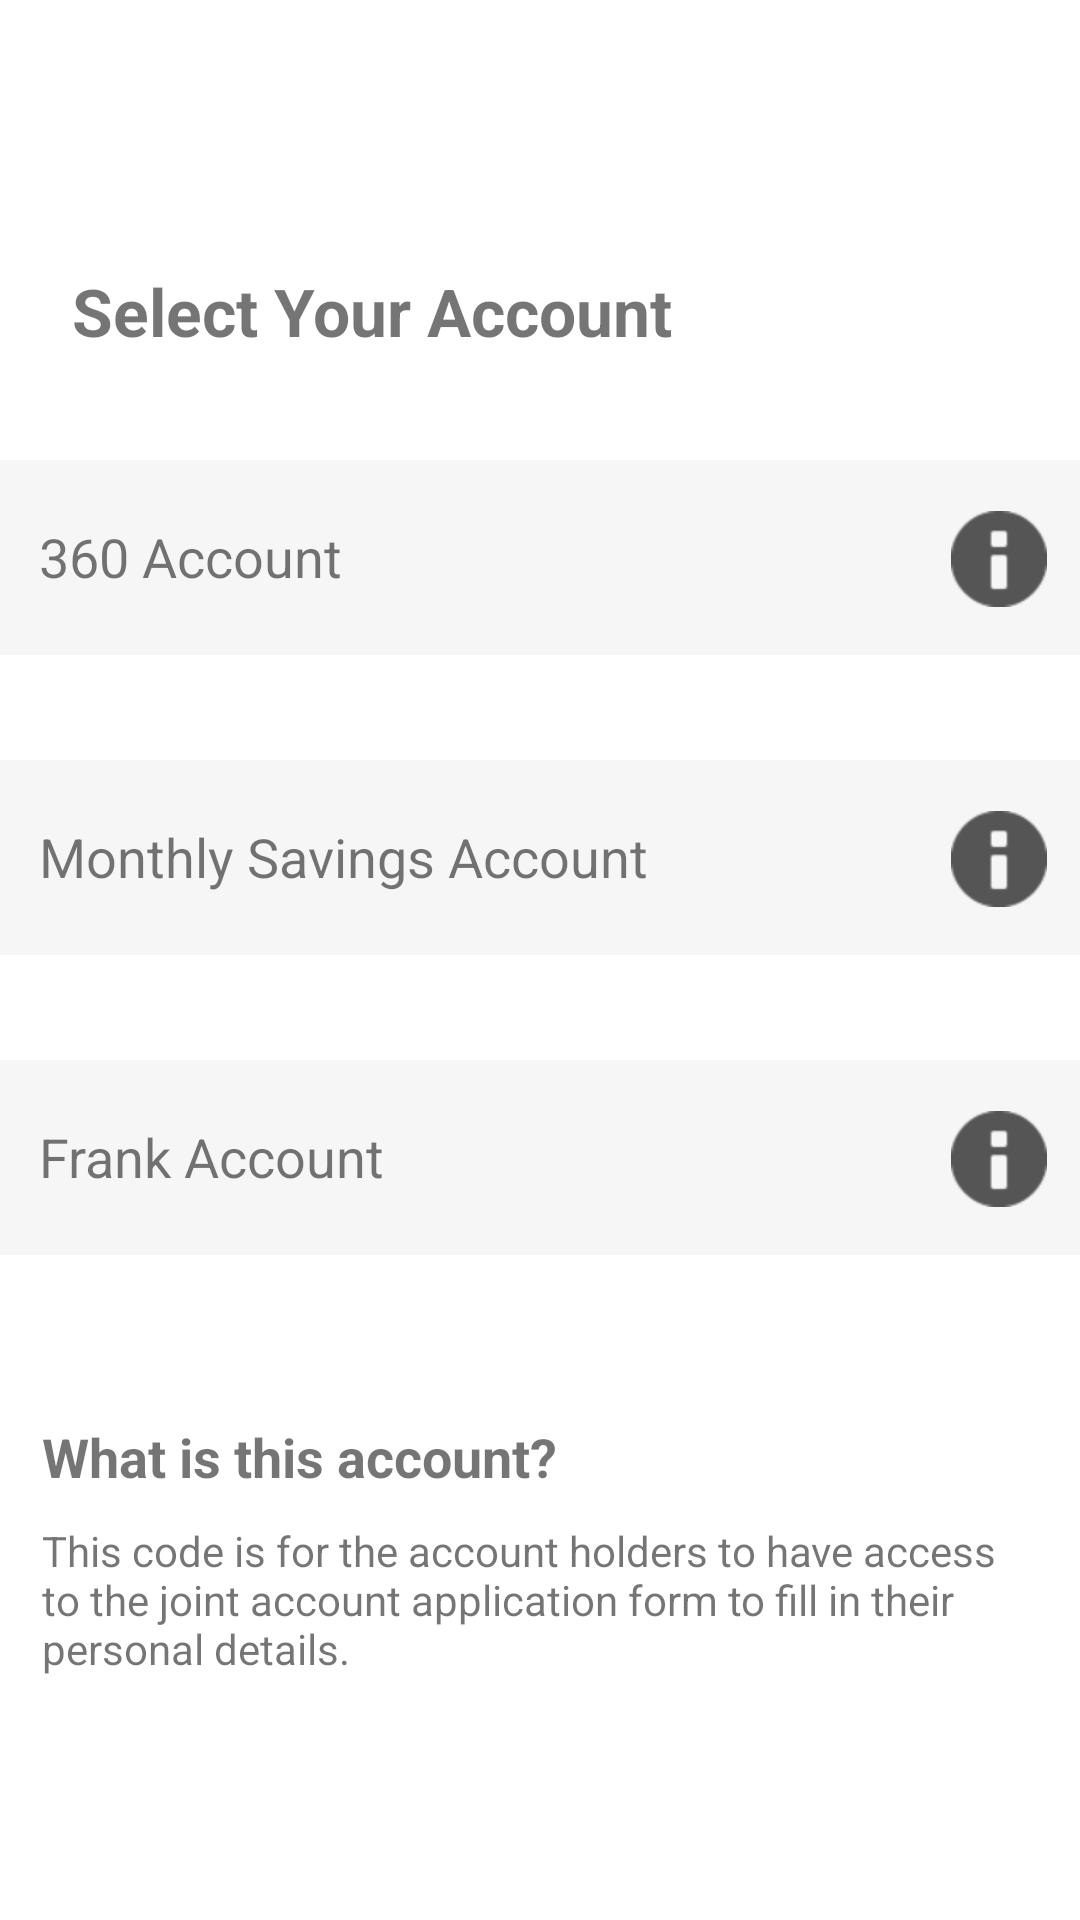

Icons on this 1080×1920 Android screen, each with its box as (x1, y1, x2, y2):
info: (951, 511, 1047, 607), (951, 811, 1047, 907), (951, 1111, 1047, 1207)
